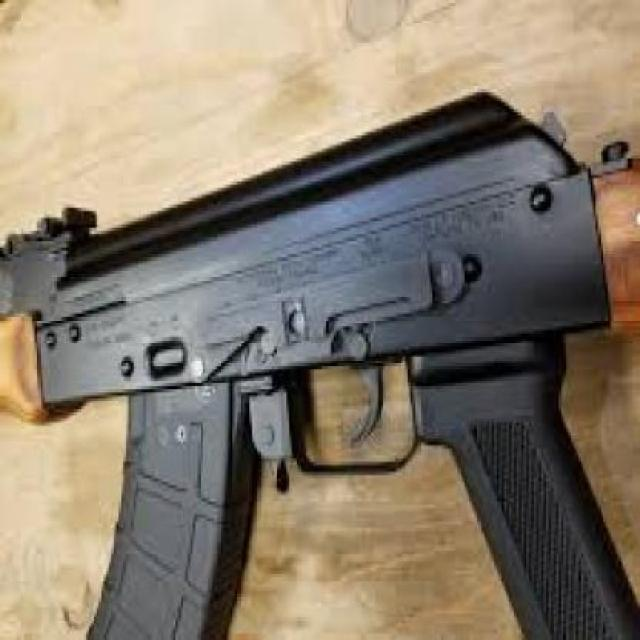weapon: (3, 74, 640, 638)
